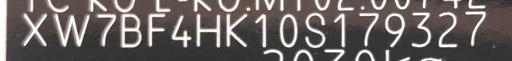letter: (52, 10, 92, 49), (434, 9, 462, 50), (194, 12, 222, 51), (20, 11, 48, 48), (303, 10, 329, 49), (117, 11, 143, 50), (408, 11, 434, 48), (382, 11, 408, 48), (224, 12, 250, 49), (168, 13, 194, 50), (463, 10, 487, 49), (276, 11, 300, 50), (356, 11, 380, 48), (95, 12, 117, 51), (145, 12, 167, 51), (252, 13, 270, 48), (333, 11, 349, 48)
